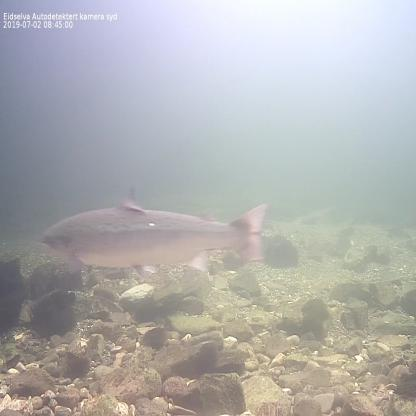salmon: (34, 182, 274, 282)
